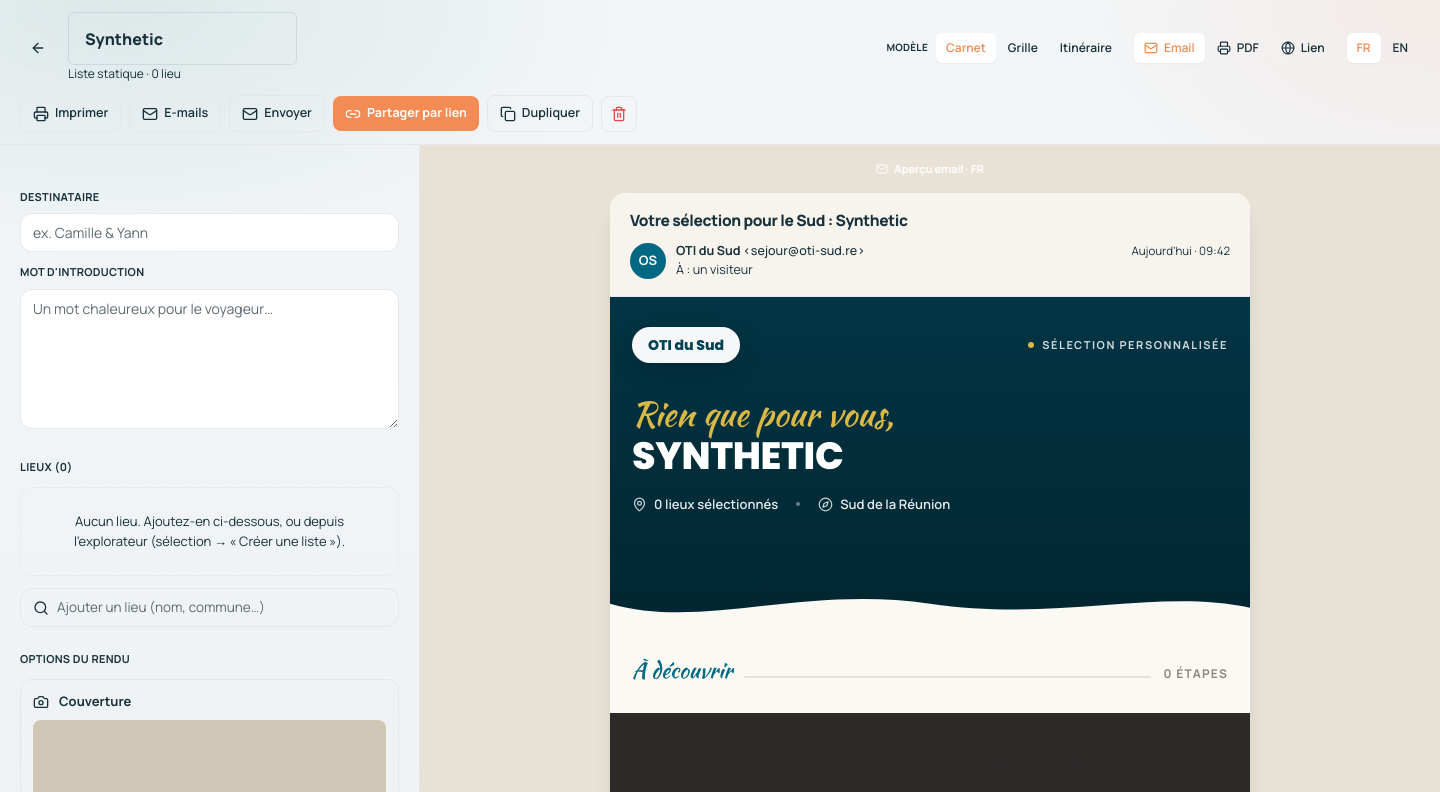
Test case: opaque HTTP200 after dispatch cannot announce sent; next gesture requires confirmation ({})
Later steps or results of the test are not shown.
Click the button "Envoyer".
click(277, 114)  # box [229,95,325,132]
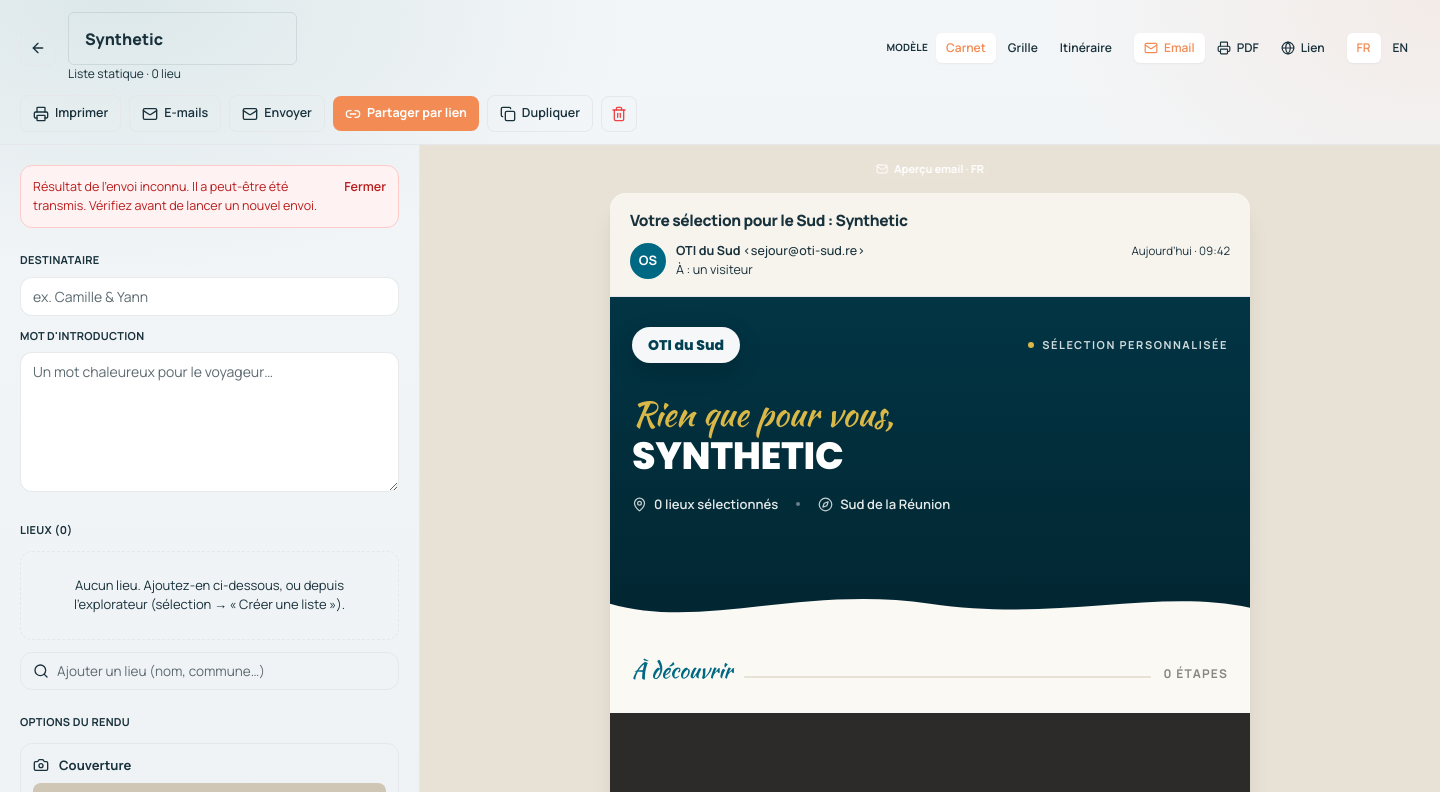
Check: the text "Résultat de l'envoi inconnu. Il a peut-être été transmis. Vérifiez avant de lancer un nouvel envoi." is shown, box [33,178,317,214]
